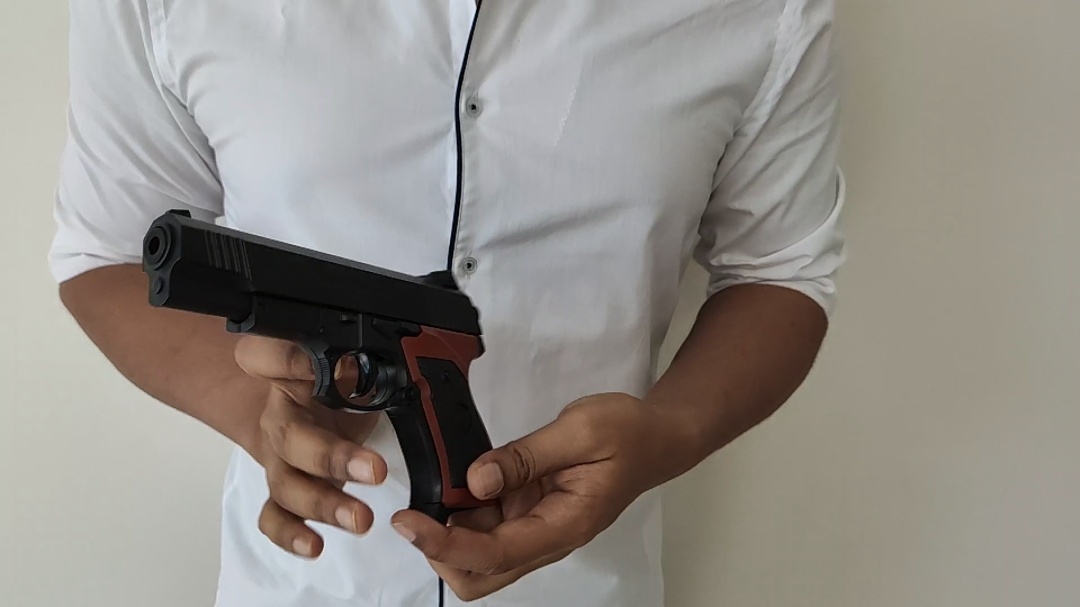gun: (140, 207, 504, 506)
